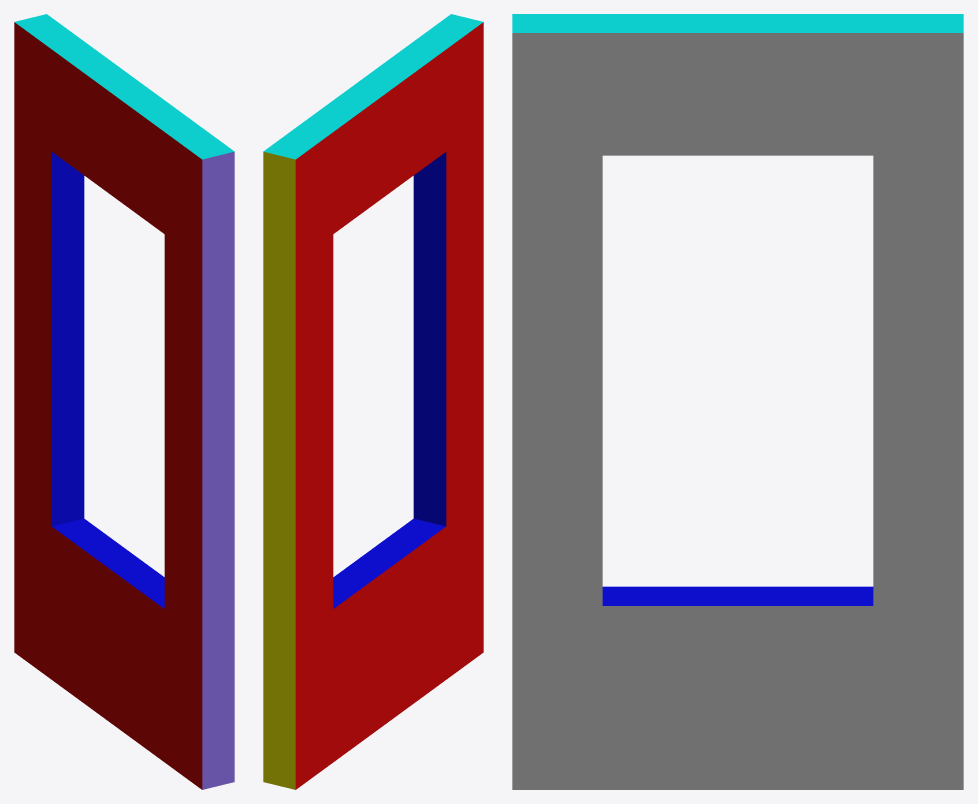
Rendered from Mesh_Wall_05.FBX.
3 views of the same model, side by side, from view 1: azimuth 30°, elevation 25°; view 2: azimuth 150°, elevation 25°; view 3: azimuth 270°, elevation 25° (orthographic). The views are drawn at different scales.
Visible parts, largest first — view 1: Mesh_Wall_05; view 2: Mesh_Wall_05; view 3: Mesh_Wall_05.
Part boxes in pixels (bbox=[...]): Mesh_Wall_05: bbox=[14, 14, 234, 789]; Mesh_Wall_05: bbox=[263, 14, 483, 789]; Mesh_Wall_05: bbox=[512, 14, 963, 789].
Size of the model in its own units: 0.2 by 3.7 by 2.
